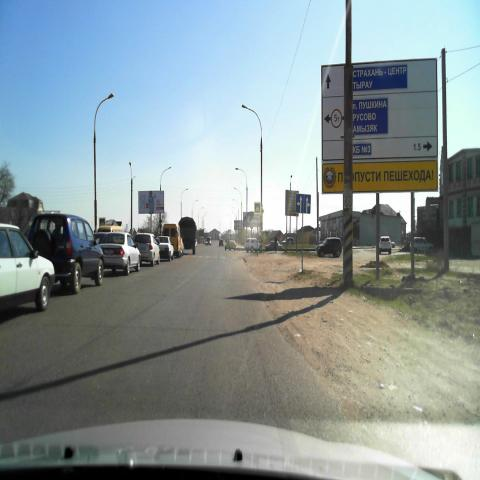5_15_2_2: (296, 194, 310, 214)
